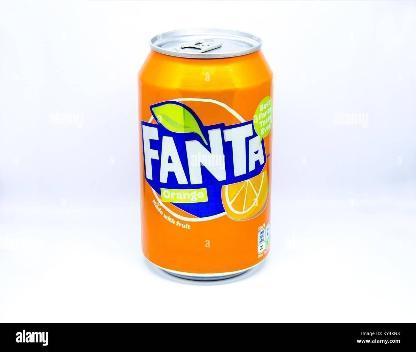Can: (138, 28, 274, 286)
